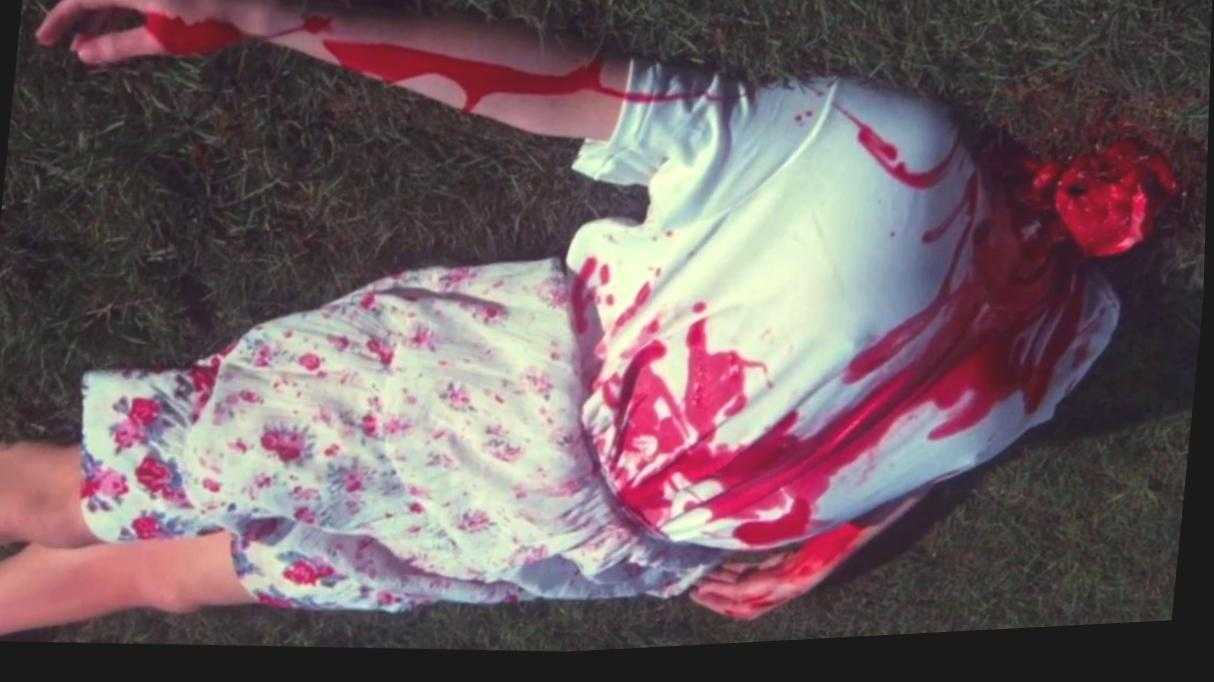Fire: (574, 201, 1089, 557), (34, 0, 687, 147), (696, 502, 926, 628), (1033, 154, 1179, 267), (825, 101, 963, 204)
